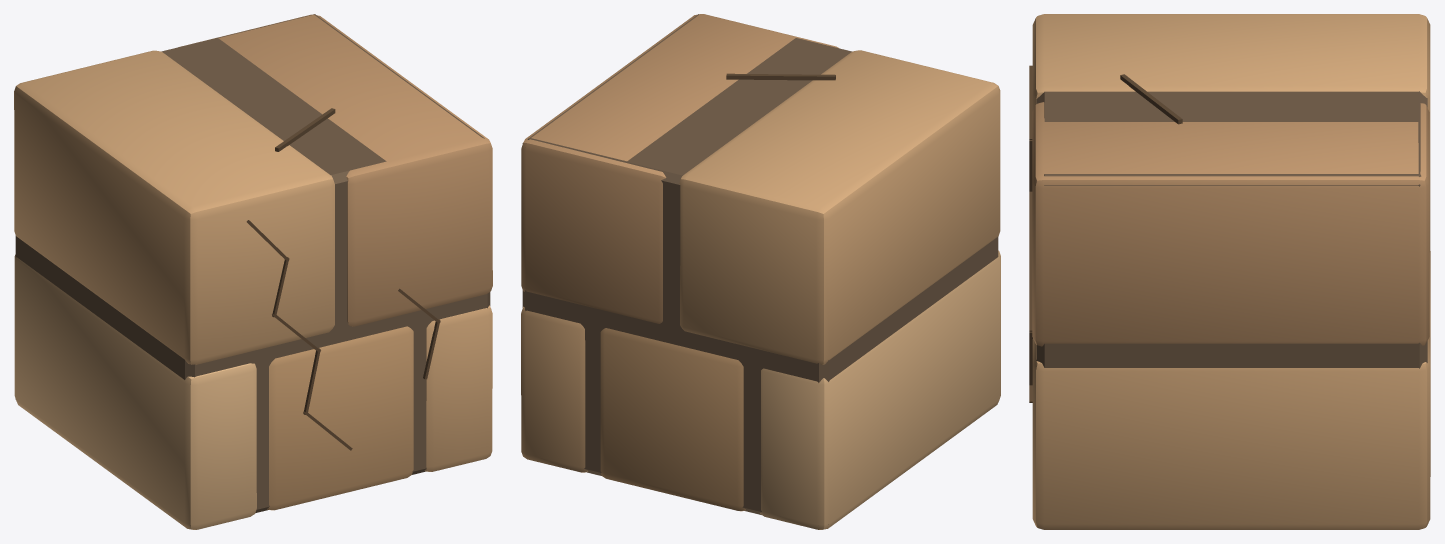
Rendered from trap_brick.glb.
3 views of the same model, side by side, from view 1: azimuth 30°, elevation 25°; view 2: azimuth 150°, elevation 25°; view 3: azimuth 270°, elevation 25° (orthographic). The views are drawn at different scales.
Visible parts, largest first — view 1: trap_brick; view 2: trap_brick; view 3: trap_brick.
Boxes of the visible parts, bbox=[...] form: trap_brick: bbox=[14, 14, 492, 529]; trap_brick: bbox=[521, 14, 1000, 529]; trap_brick: bbox=[1029, 14, 1430, 529].
Size of the model in its own units: 0.9765 by 0.9916 by 0.9944.
